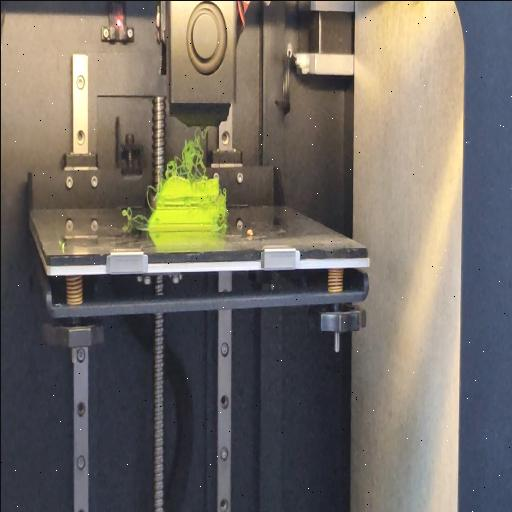spaghetti: (164, 126, 213, 180), (122, 207, 144, 224), (146, 181, 158, 209), (214, 218, 226, 230)
